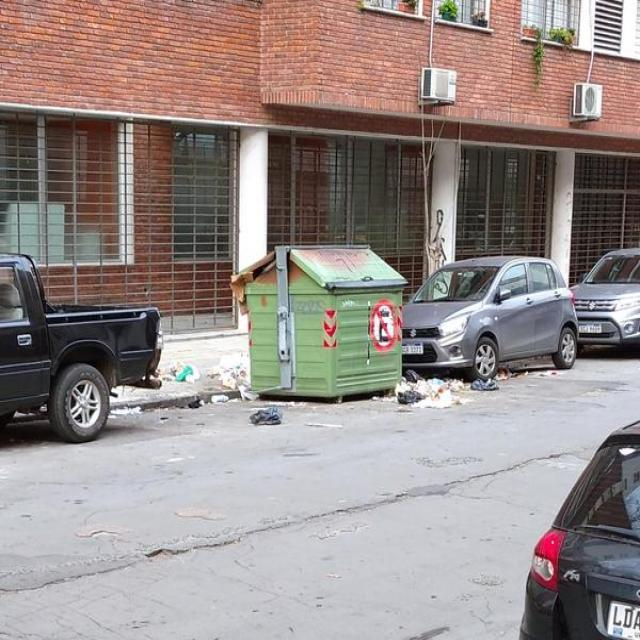garbage: (382, 363, 520, 402), (168, 348, 250, 410), (226, 397, 293, 429)
